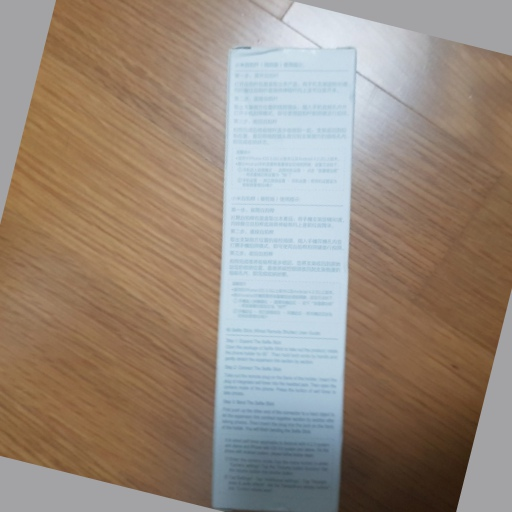Paper_0: (212, 39, 363, 512)
